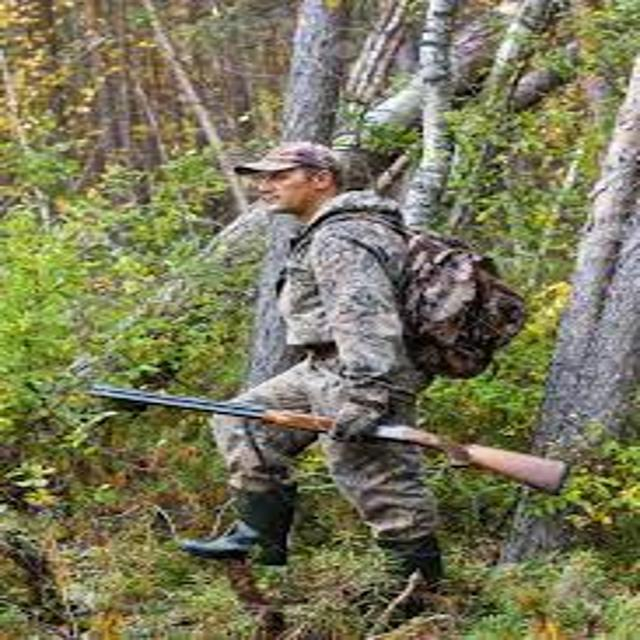backpack: (373, 201, 548, 400)
gun: (79, 356, 589, 547)
poacher: (157, 104, 527, 631)
